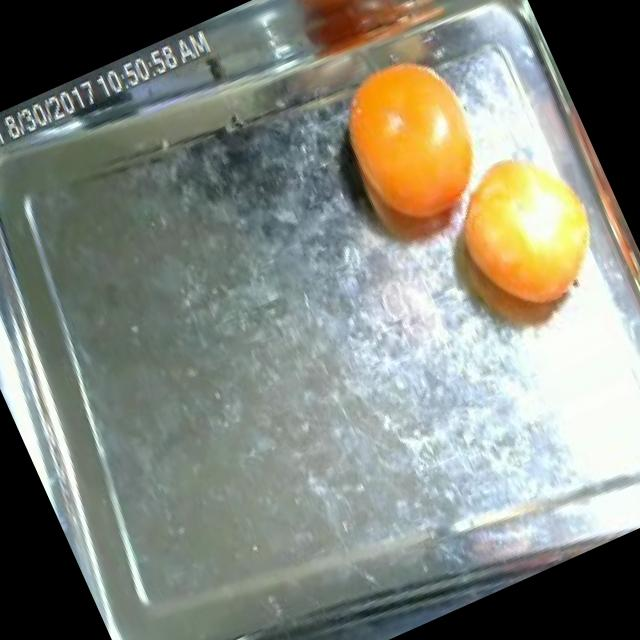Fruit: (402, 109, 640, 366), (297, 22, 527, 283)
